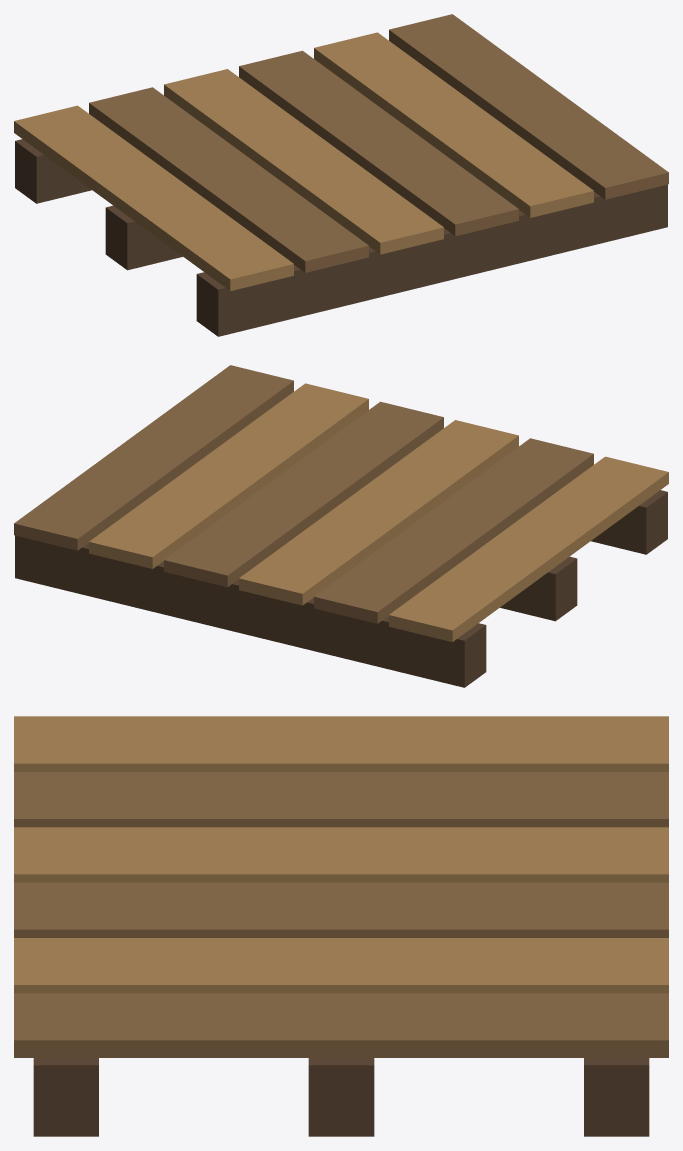
The model's file is decorativos-tarima.glb.
The picture shows the model from 3 angles, top to bottom: view 1: azimuth 30°, elevation 25°; view 2: azimuth 150°, elevation 25°; view 3: azimuth 270°, elevation 25°; orthographic projection. The views are drawn at different scales.
Visible parts, largest first — view 1: tarima_MaderaClara, tarima_Madera, tarima_MaderaOscura; view 2: tarima_MaderaClara, tarima_Madera, tarima_MaderaOscura; view 3: tarima_Madera, tarima_MaderaClara, tarima_MaderaOscura.
Boxes of the visible parts, left/top/right/bottom form: tarima_MaderaClara: left=14, top=32, right=593, bottom=291; tarima_Madera: left=89, top=14, right=668, bottom=272; tarima_MaderaOscura: left=15, top=139, right=667, bottom=336; tarima_MaderaClara: left=89, top=383, right=668, bottom=642; tarima_Madera: left=14, top=365, right=593, bottom=623; tarima_MaderaOscura: left=15, top=490, right=667, bottom=687; tarima_Madera: left=14, top=772, right=668, bottom=1057; tarima_MaderaClara: left=14, top=716, right=668, bottom=993; tarima_MaderaOscura: left=33, top=1058, right=649, bottom=1136.
Size of the model in its own units: 1.2 by 0.155 by 1.
